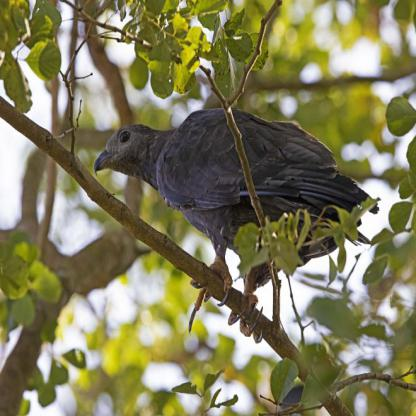Burung: (91, 104, 379, 310)
